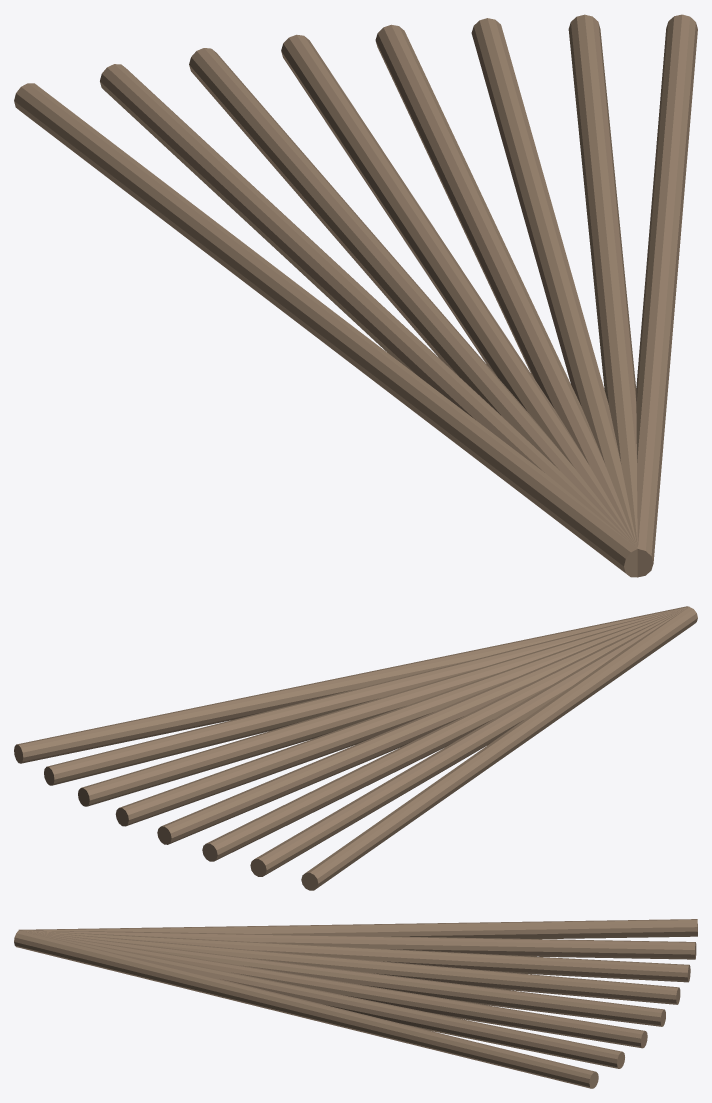
Rendered from PR-FAN.glb.
The picture shows the model from 3 angles, top to bottom: view 1: azimuth 30°, elevation 25°; view 2: azimuth 150°, elevation 25°; view 3: azimuth 270°, elevation 25°; orthographic projection. The views are drawn at different scales.
Parts seen in each view (by area): view 1: fan_rib (×8); view 2: fan_rib (×8); view 3: fan_rib (×8).
Boxes of the visible parts, bbox=[...] form: fan_rib (×8): bbox=[14, 14, 697, 577]; fan_rib (×8): bbox=[14, 606, 697, 890]; fan_rib (×8): bbox=[14, 919, 697, 1088].
Bounding box in the file's own units: 0.1277 × 0.01 × 0.2316.
